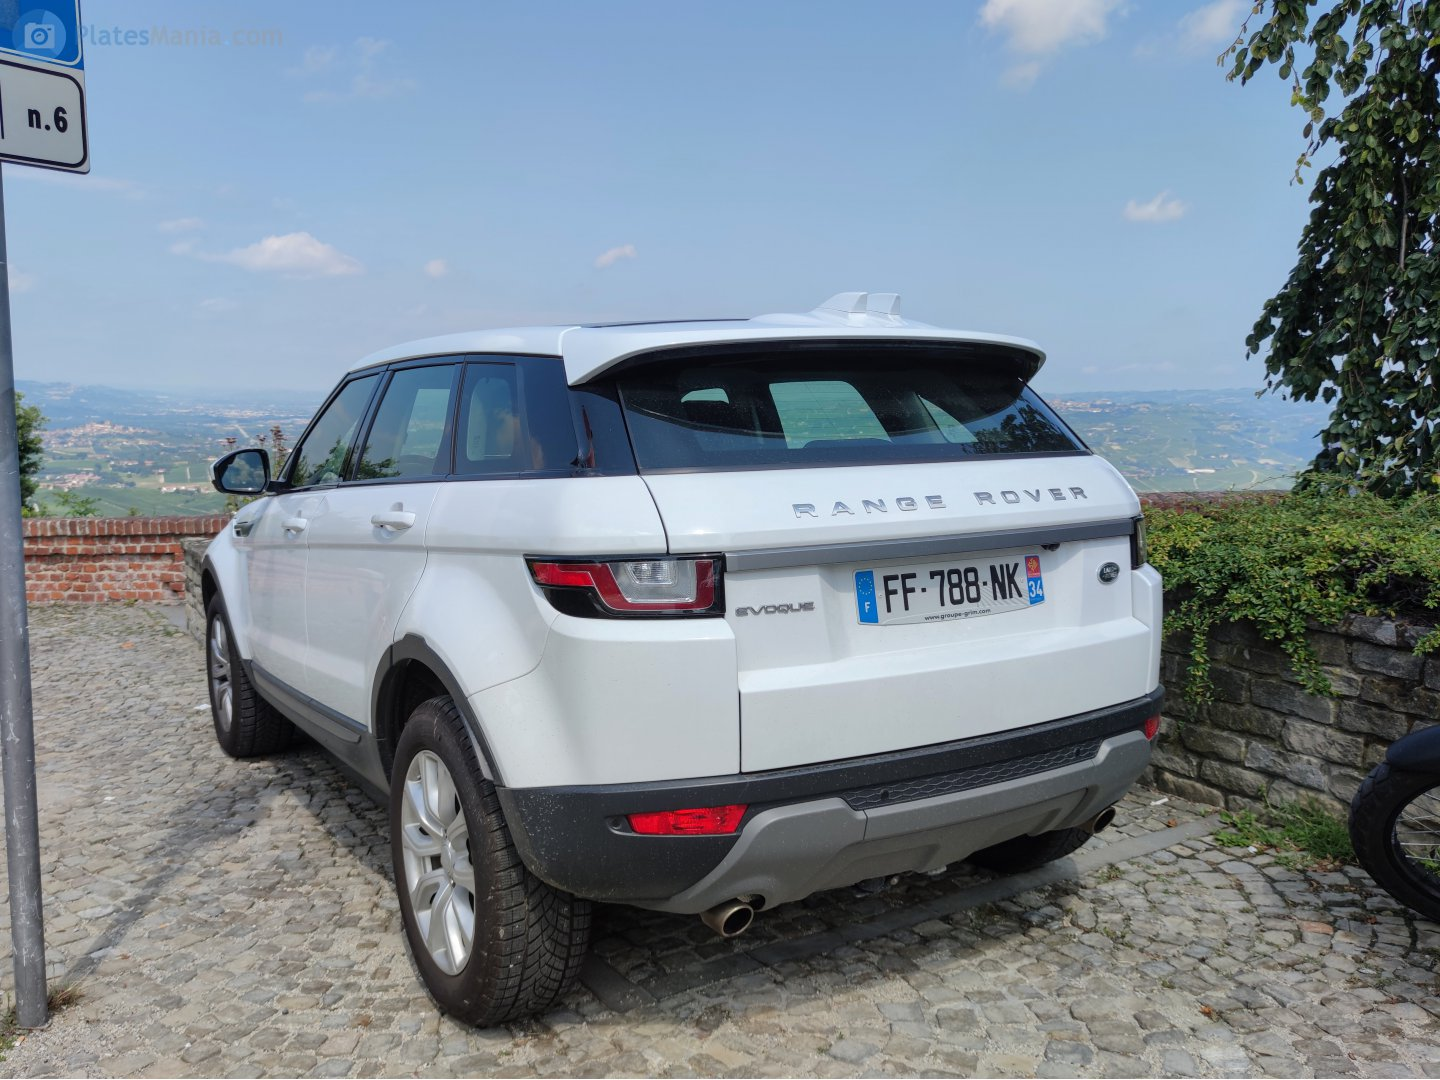licence plate: (849, 551, 1049, 633)
